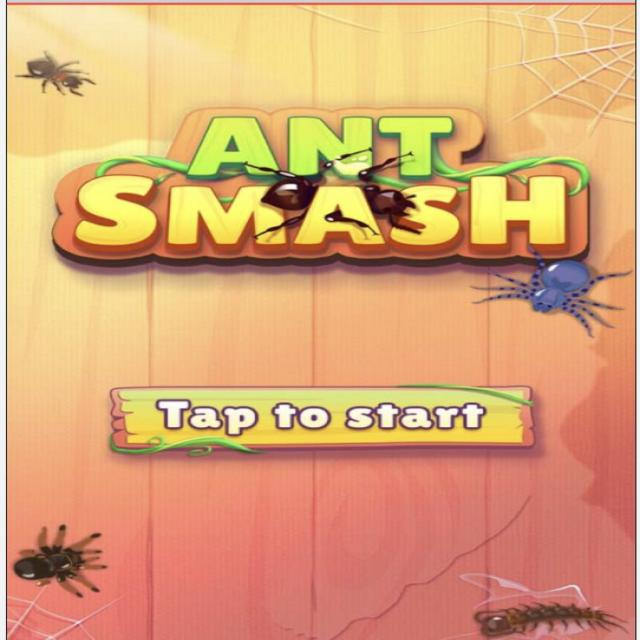Start-button: (115, 379, 550, 454)
